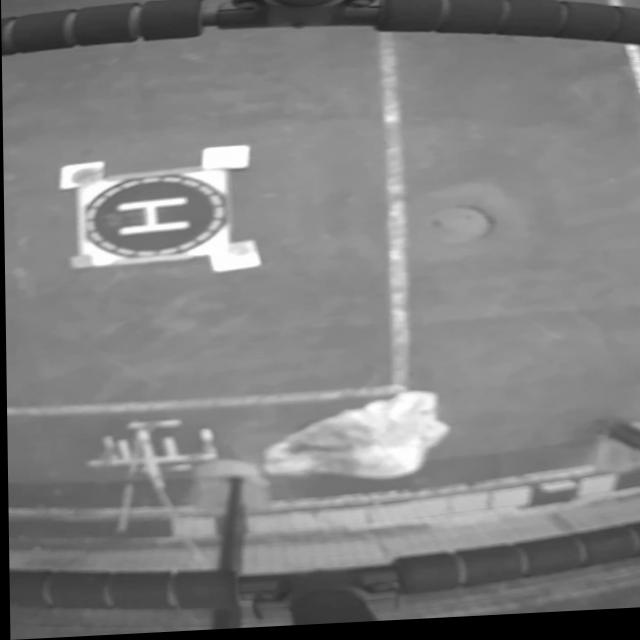Helipad: (114, 198, 188, 236)
